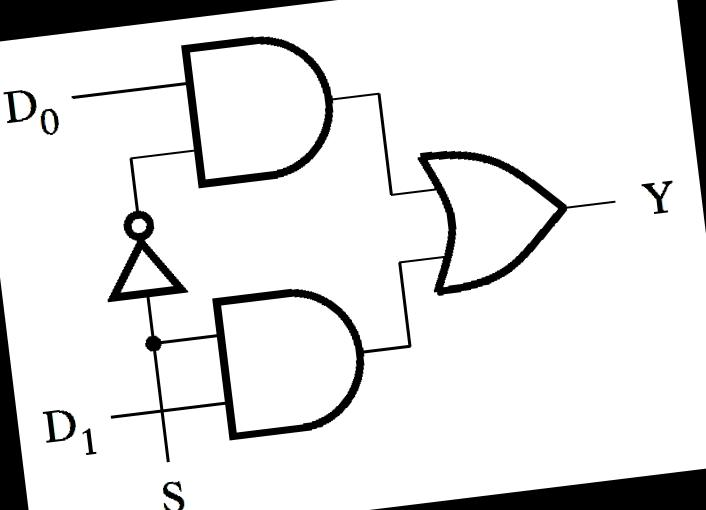and: (174, 20, 349, 198), (206, 273, 382, 448)
not: (92, 200, 195, 310)
or: (406, 127, 585, 304)
